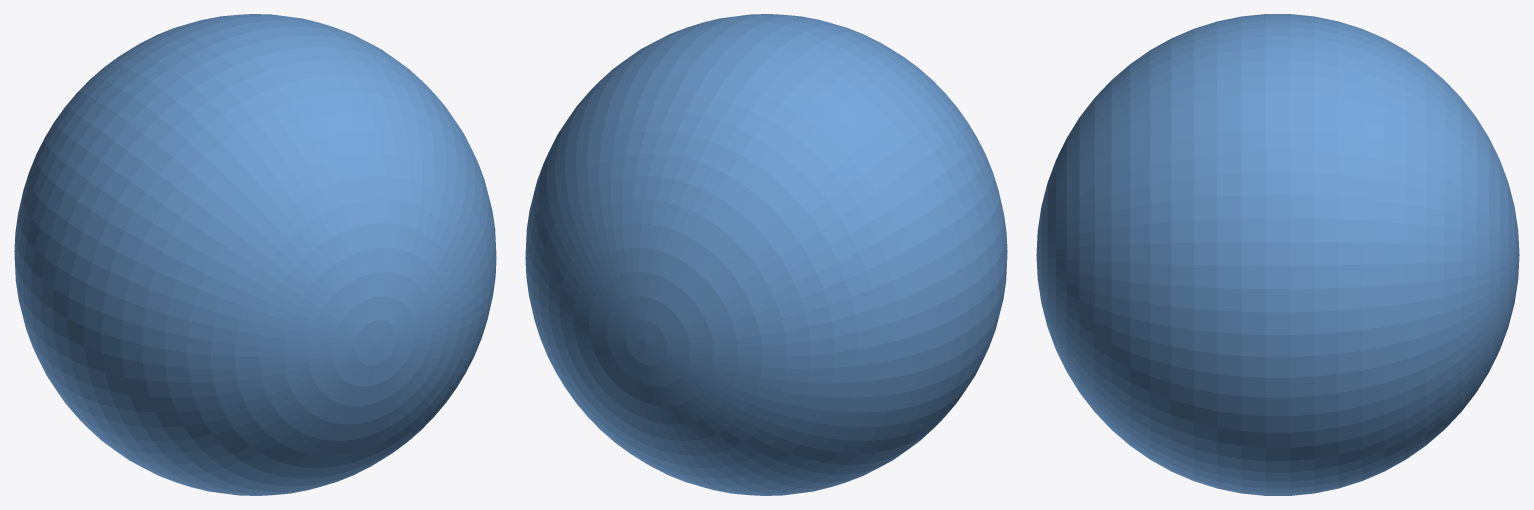
File: wb_globe.glb
3 views of the same model, side by side, from view 1: azimuth 30°, elevation 25°; view 2: azimuth 150°, elevation 25°; view 3: azimuth 270°, elevation 25° (orthographic).
Visible parts, largest first — view 1: world; view 2: world; view 3: world.
Part boxes in pixels (x1,y1,x2,y2): world: [14, 14, 496, 495]; world: [525, 14, 1007, 495]; world: [1036, 14, 1519, 495].
Bounding box in the file's own units: 2 × 2 × 2.
